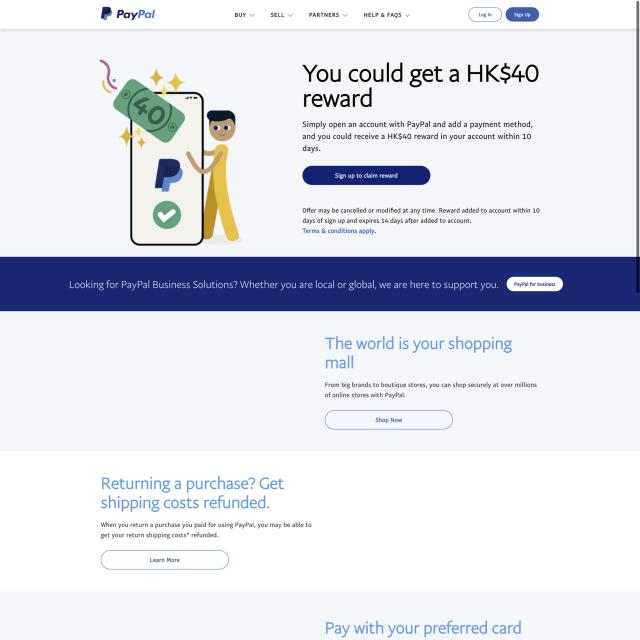logo: (96, 4, 159, 24)
navigation: (227, 5, 415, 25)
